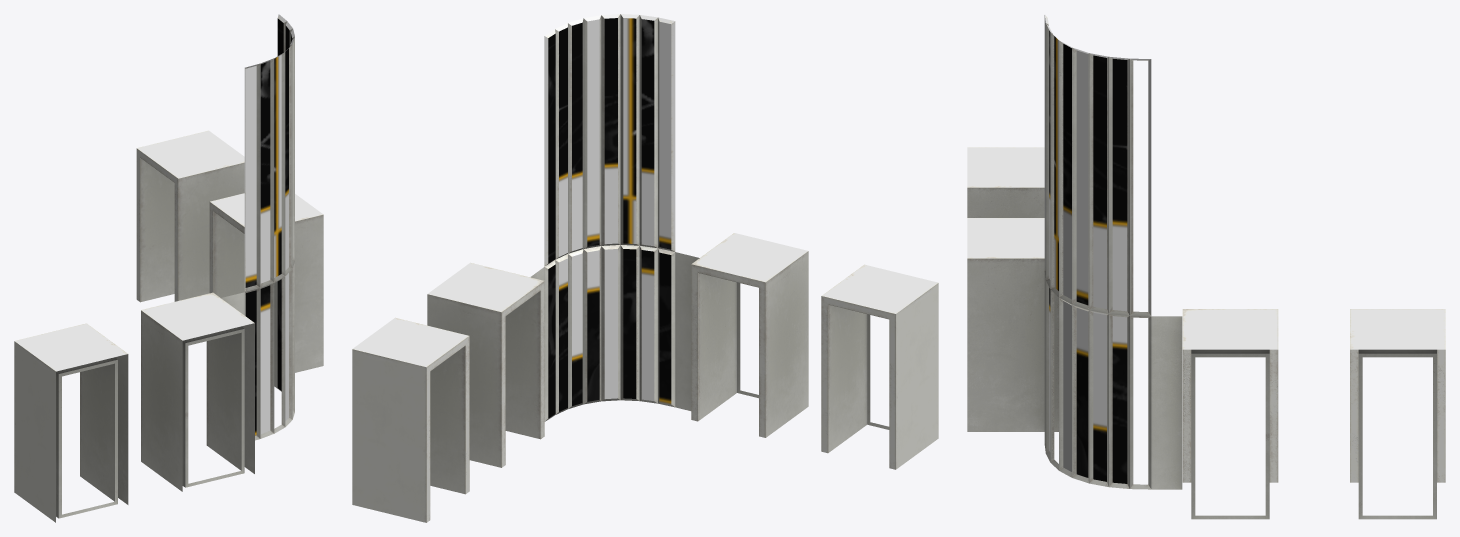
The model's file is Outfits.001.fbx.
3 renders of one model, left to right at view 1: azimuth 30°, elevation 25°; view 2: azimuth 150°, elevation 25°; view 3: azimuth 270°, elevation 25°, orthographic. The views are drawn at different scales.
Parts seen in each view (by area): view 1: Lower-Body Shelves.001, Lower-Body Shelves.008, Changing Rooms.001, Changing Rooms.002; view 2: Lower-Body Shelves.008, Lower-Body Shelves.001, Changing Rooms.001, Changing Rooms.002; view 3: Changing Rooms.001, Lower-Body Shelves.001, Changing Rooms.002, Lower-Body Shelves.008.
Part boxes in pixels (left/top/right/bottom): Lower-Body Shelves.001: left=14, top=292, right=254, bottom=522; Lower-Body Shelves.008: left=136, top=130, right=323, bottom=372; Changing Rooms.001: left=244, top=14, right=294, bottom=291; Changing Rooms.002: left=221, top=262, right=294, bottom=440; Lower-Body Shelves.008: left=352, top=262, right=544, bottom=522; Lower-Body Shelves.001: left=691, top=233, right=938, bottom=469; Changing Rooms.001: left=544, top=14, right=675, bottom=266; Changing Rooms.002: left=531, top=245, right=699, bottom=421; Changing Rooms.001: left=1044, top=14, right=1151, bottom=316; Lower-Body Shelves.001: left=967, top=147, right=1058, bottom=431; Changing Rooms.002: left=1044, top=272, right=1182, bottom=489; Lower-Body Shelves.008: left=1182, top=309, right=1445, bottom=519.
Size of the model in its own units: 10 by 10 by 9.94.
